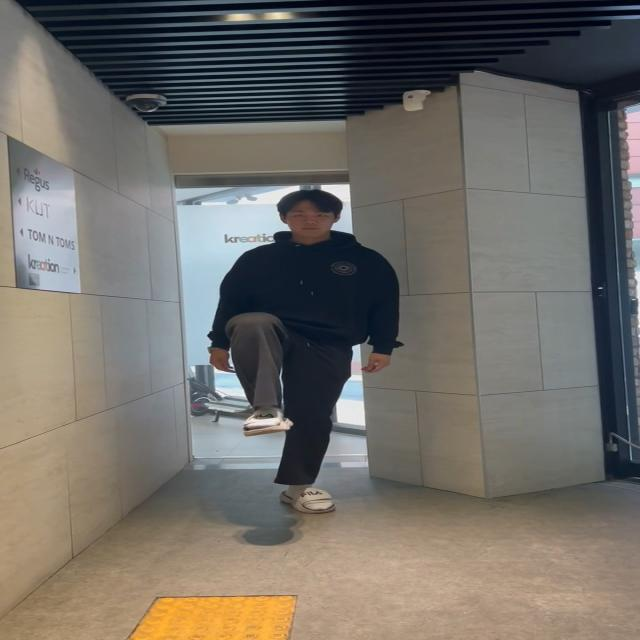knee: (225, 305, 298, 436)
